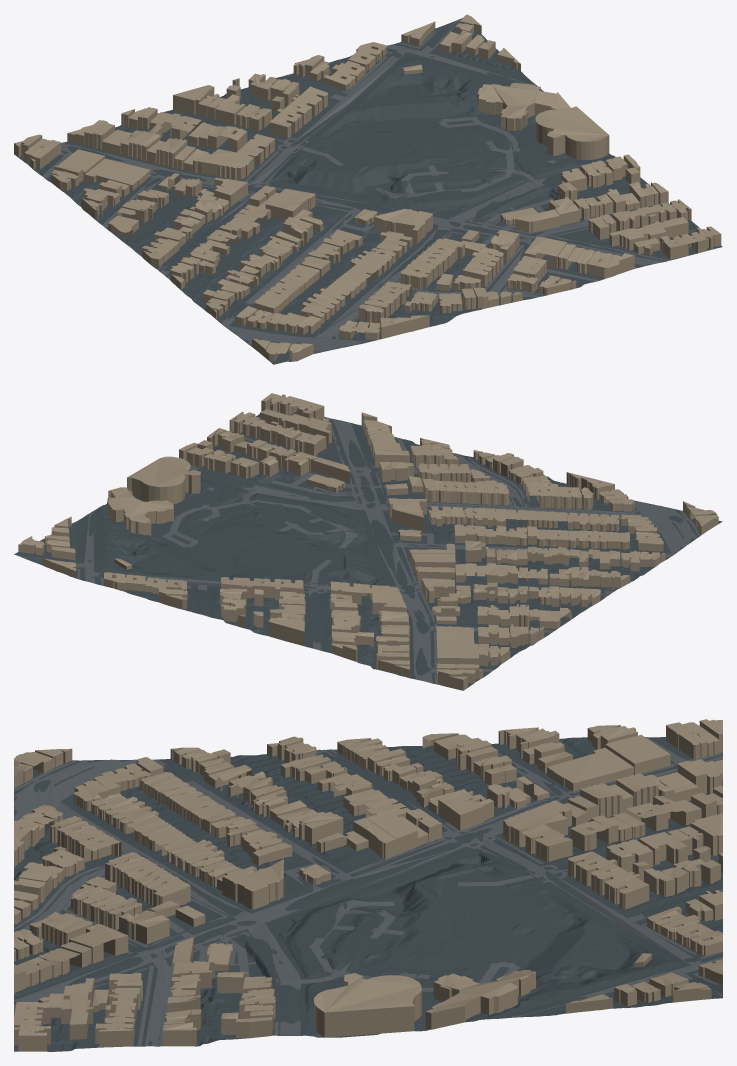
The model's file is epsg26910-1432-10874.lod0.glb.
3 views of the same model, one above another, from view 1: azimuth 30°, elevation 25°; view 2: azimuth 150°, elevation 25°; view 3: azimuth 270°, elevation 25° (orthographic). The views are drawn at different scales.
Parts seen in each view (by area): view 1: epsg26910-1432-10874-lod0; view 2: epsg26910-1432-10874-lod0; view 3: epsg26910-1432-10874-lod0.
Part boxes in pixels (x1,y1,x2,y2): epsg26910-1432-10874-lod0: (14, 14, 722, 364); epsg26910-1432-10874-lod0: (14, 393, 722, 690); epsg26910-1432-10874-lod0: (14, 719, 722, 1051).
Bounding box in the file's own units: 384 × 46.48 × 384.
